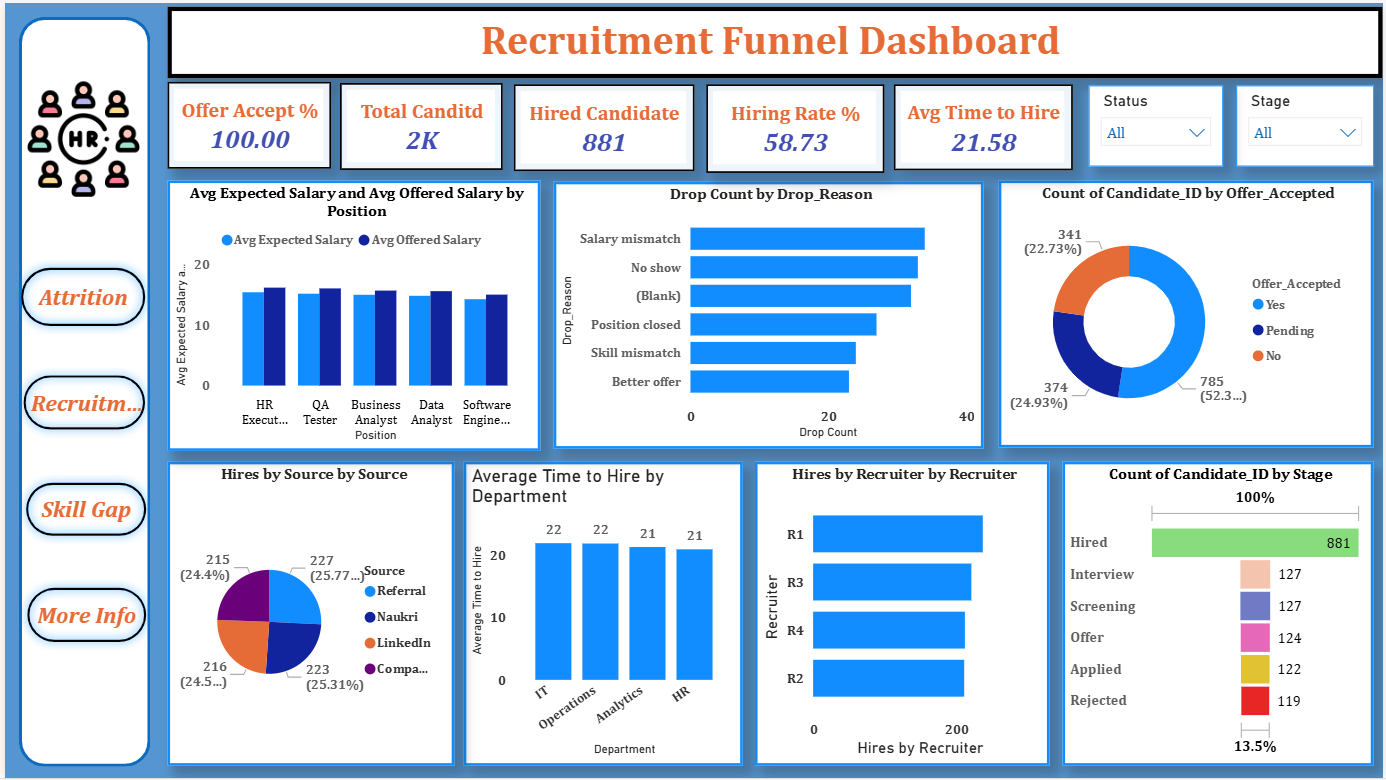

What the dashboard file says about the page in this screenshot:
{"tool":"powerbi","page":{"name":"Recruitment Funnel Dashboard ","canvas":[1280,720],"ordinal":2},"visuals":[{"type":"shape","box":[12.3,12.3,122.7,696.9],"z":0},{"type":"actionButton","box":[7.4,238,131.3,69.9],"z":1000},{"type":"textbox","box":[151.1,3.3,1128.9,66.7],"z":2000},{"type":"cardVisual","fields":{"Data":["Recruitment_Data_Advanced.Offer Acceptance %"]},"box":[151.1,73.3,152.2,81.1],"z":3000},{"type":"cardVisual","fields":{"Data":["Recruitment_Data_Advanced.Total Candidates"]},"box":[311.1,74.4,151.1,81.1],"z":4000},{"type":"cardVisual","fields":{"Data":["Recruitment_Data_Advanced.Hired Candidates"]},"box":[472.2,75.6,167.8,81.1],"z":5000},{"type":"actionButton","box":[9.8,337.4,128.8,66.3],"z":6000},{"type":"actionButton","box":[11,438,127.6,65],"z":7000},{"type":"actionButton","box":[12.3,535,126.4,66.3],"z":8000},{"type":"clusteredColumnChart","fields":{"Category":["Recruitment_Data_Advanced.Department"],"Y":["Recruitment_Data_Advanced.Average Time to Hire"]},"box":[426.7,426.7,258.9,282.2],"z":9000},{"type":"donutChart","fields":{"Category":["Recruitment_Data_Advanced.Offer_Accepted"],"Y":["CountNonNull(Recruitment_Data_Advanced.Candidate_ID)"]},"box":[923.3,164.4,347.8,247.8],"z":10000},{"type":"pieChart","fields":{"Y":["Recruitment_Data_Advanced.Hires by Source"],"Category":["Recruitment_Data_Advanced.Source"]},"box":[151.1,426.7,266.7,282.2],"z":11000},{"type":"clusteredColumnChart","fields":{"Category":["Recruitment_Data_Advanced.Position"],"Y":["Recruitment_Data_Advanced.Avg Expected Salary","Recruitment_Data_Advanced.Avg Offered Salary"]},"box":[151.1,164.4,346.7,251.1],"z":12000},{"type":"clusteredBarChart","fields":{"Category":["Recruitment_Data_Advanced.Drop_Reason"],"Y":["Recruitment_Data_Advanced.Drop Count"]},"box":[510,165.6,398.9,247.8],"z":13000},{"type":"barChart","fields":{"Category":["Recruitment_Data_Advanced.Recruiter"],"Y":["Recruitment_Data_Advanced.Hires by Recruiter"]},"box":[696.7,426.7,273.3,282.2],"z":14000},{"type":"cardVisual","fields":{"Data":["Recruitment_Data_Advanced.Hiring Rate %"]},"box":[651.1,75.6,165.6,82.2],"z":15000},{"type":"cardVisual","fields":{"Data":["Recruitment_Data_Advanced.Avg Time to Hire"]},"box":[825.6,75.6,166.7,80],"z":16000},{"type":"funnel","fields":{"Category":["Recruitment_Data_Advanced.Stage"],"Y":["CountNonNull(Recruitment_Data_Advanced.Candidate_ID)"]},"box":[982.2,426.7,288.9,282.2],"z":17000},{"type":"slicer","fields":{"Values":["Skill_Gap_Analysis.Stage  "]},"box":[1143.3,76.7,127.8,75.6],"z":18000},{"type":"slicer","fields":{"Values":["Skill_Gap_Analysis.Status  "]},"box":[1006.7,76.7,124.4,75.6],"z":19000},{"type":"image","box":[19.6,23.3,106.7,206.1],"z":20000}]}

Visuals, with their boxes in screenshot pixels (x1, y1, x2, y2), scaled from the page's 1280x720 canvas onto the 1386x780 screenshot:
shape: (left=13, top=13, right=146, bottom=768)
actionButton: (left=8, top=258, right=150, bottom=334)
textbox: (left=164, top=4, right=1385, bottom=76)
cardVisual - Recruitment_Data_Advanced.Offer Acceptance %: (left=164, top=79, right=328, bottom=167)
cardVisual - Recruitment_Data_Advanced.Total Candidates: (left=337, top=81, right=500, bottom=168)
cardVisual - Recruitment_Data_Advanced.Hired Candidates: (left=511, top=82, right=693, bottom=170)
actionButton: (left=11, top=366, right=150, bottom=437)
actionButton: (left=12, top=474, right=150, bottom=545)
actionButton: (left=13, top=580, right=150, bottom=651)
clusteredColumnChart - Recruitment_Data_Advanced.Department x Recruitment_Data_Advanced.Average Time to Hire: (left=462, top=462, right=742, bottom=768)
donutChart - Recruitment_Data_Advanced.Offer_Accepted x CountNonNull(Recruitment_Data_Advanced.Candidate_ID): (left=1000, top=178, right=1376, bottom=447)
pieChart - Recruitment_Data_Advanced.Hires by Source x Recruitment_Data_Advanced.Source: (left=164, top=462, right=452, bottom=768)
clusteredColumnChart - Recruitment_Data_Advanced.Position x Recruitment_Data_Advanced.Avg Expected Salary: (left=164, top=178, right=539, bottom=450)
clusteredBarChart - Recruitment_Data_Advanced.Drop_Reason x Recruitment_Data_Advanced.Drop Count: (left=552, top=179, right=984, bottom=448)
barChart - Recruitment_Data_Advanced.Recruiter x Recruitment_Data_Advanced.Hires by Recruiter: (left=754, top=462, right=1050, bottom=768)
cardVisual - Recruitment_Data_Advanced.Hiring Rate %: (left=705, top=82, right=884, bottom=171)
cardVisual - Recruitment_Data_Advanced.Avg Time to Hire: (left=894, top=82, right=1074, bottom=169)
funnel - Recruitment_Data_Advanced.Stage x CountNonNull(Recruitment_Data_Advanced.Candidate_ID): (left=1064, top=462, right=1376, bottom=768)
slicer - Skill_Gap_Analysis.Stage  : (left=1238, top=83, right=1376, bottom=165)
slicer - Skill_Gap_Analysis.Status  : (left=1090, top=83, right=1225, bottom=165)
image: (left=21, top=25, right=137, bottom=249)
